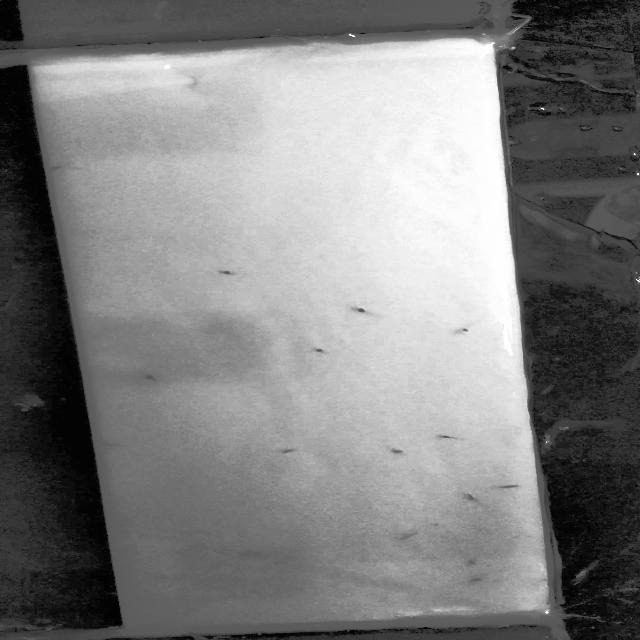shrimp: (440, 320, 494, 341), (374, 441, 418, 462), (220, 547, 288, 558), (302, 340, 332, 362), (269, 447, 313, 462), (459, 576, 504, 588), (131, 371, 169, 384), (344, 304, 376, 318), (207, 267, 244, 279), (499, 480, 526, 496), (435, 430, 461, 446), (460, 490, 483, 502), (462, 558, 482, 567), (50, 163, 70, 172)
